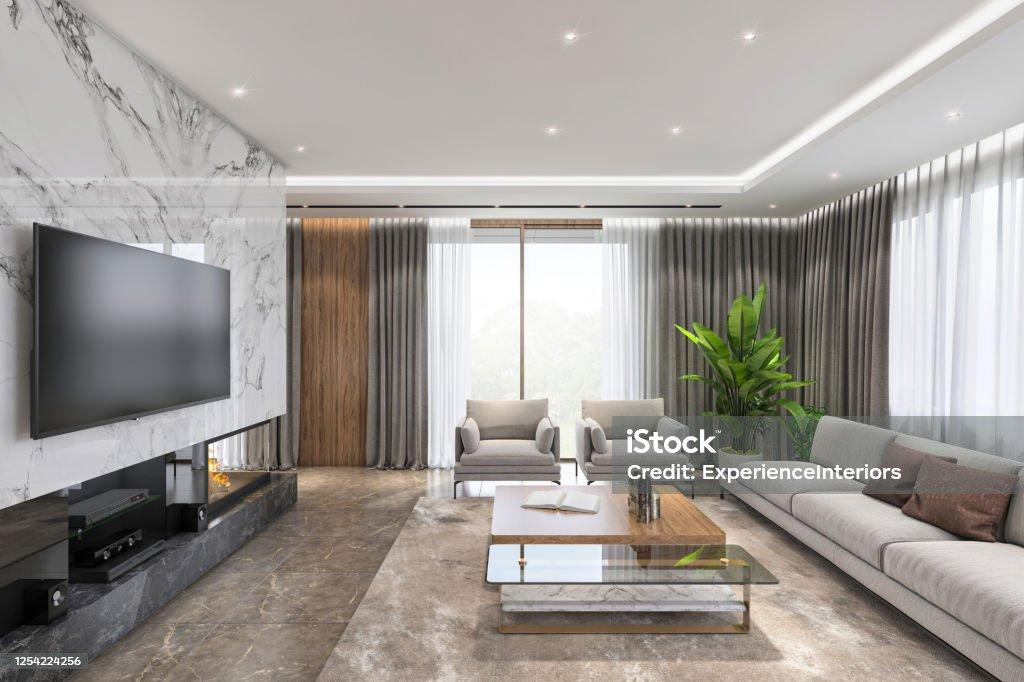TV: (30, 217, 235, 447)
light: (734, 25, 769, 45), (228, 84, 254, 98), (668, 121, 685, 141), (765, 196, 783, 213), (944, 105, 964, 120), (562, 29, 584, 42), (543, 125, 564, 136), (830, 166, 844, 181), (292, 143, 314, 152)
sofa: (711, 408, 1024, 682), (579, 397, 701, 499), (456, 389, 566, 483)
table: (488, 539, 782, 637), (488, 468, 733, 544)
